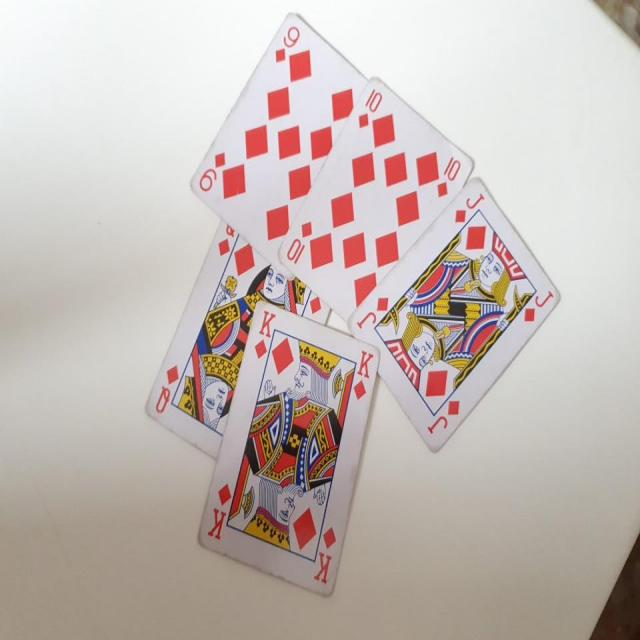10 Diamonds: (278, 74, 475, 317)
9 Diamonds: (188, 10, 368, 276)
J Diamonds: (345, 172, 560, 458)
K Diamonds: (196, 298, 382, 597)
Q Diamonds: (144, 214, 332, 459)
